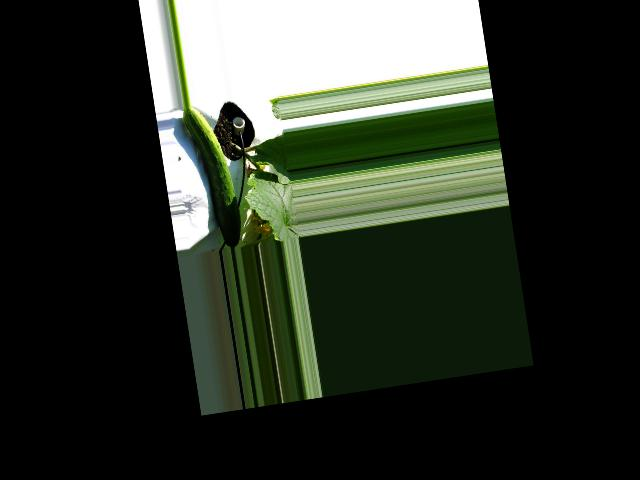cucumber: (181, 100, 244, 252)
